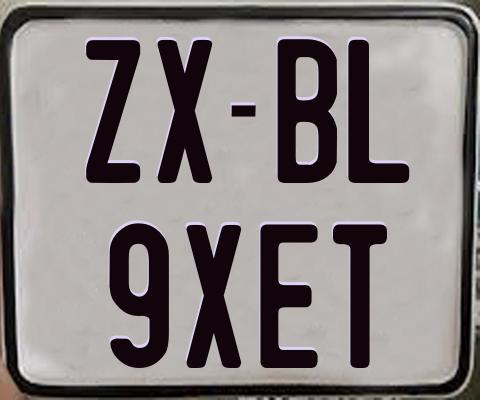9: (108, 222, 173, 370)
B: (278, 39, 337, 189)
E: (258, 222, 322, 368)
L: (346, 39, 410, 184)
T: (330, 223, 385, 369)
X: (185, 224, 246, 371), (155, 38, 216, 181)
Z: (85, 38, 145, 184)
